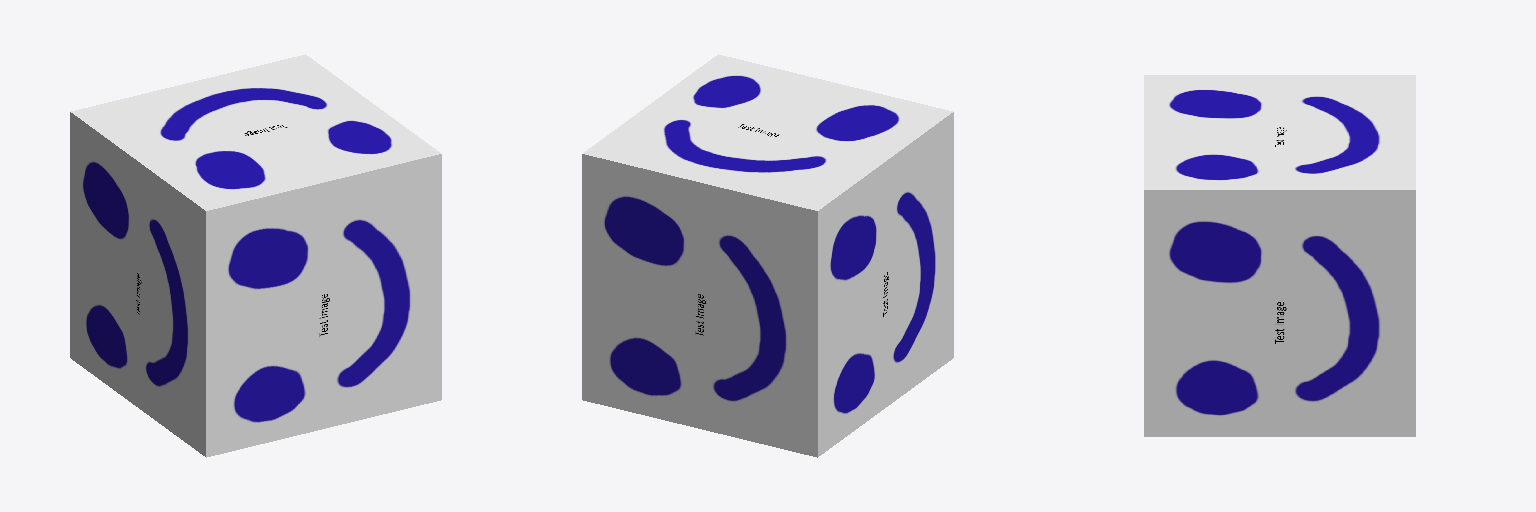
3 renders of one model, left to right at view 1: azimuth 30°, elevation 25°; view 2: azimuth 150°, elevation 25°; view 3: azimuth 270°, elevation 25°, orthographic.
Visible parts, largest first — view 1: Cube_Cube.001; view 2: Cube_Cube.001; view 3: Cube_Cube.001.
Boxes of the visible parts, box(x1,y1,x2,y2) form: Cube_Cube.001: box(70, 54, 441, 457); Cube_Cube.001: box(582, 54, 953, 457); Cube_Cube.001: box(1144, 75, 1415, 436).
Size of the model in its own units: 2 by 2 by 2.
1 materials, 1 textured.